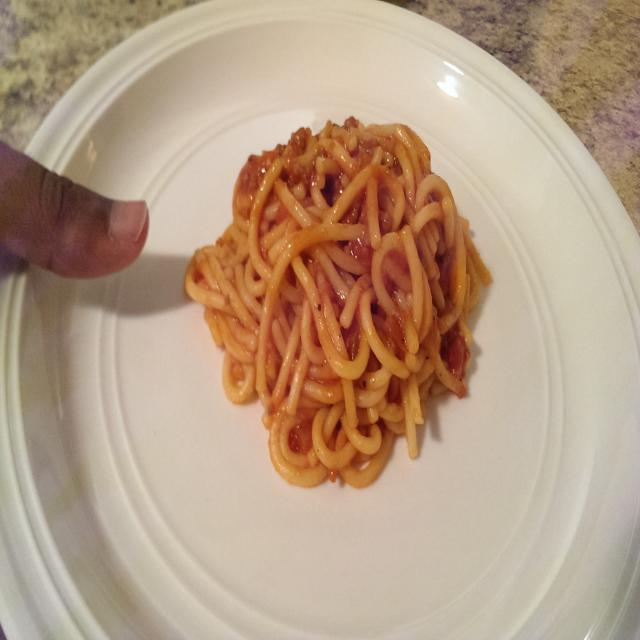pasta: (184, 116, 491, 489)
